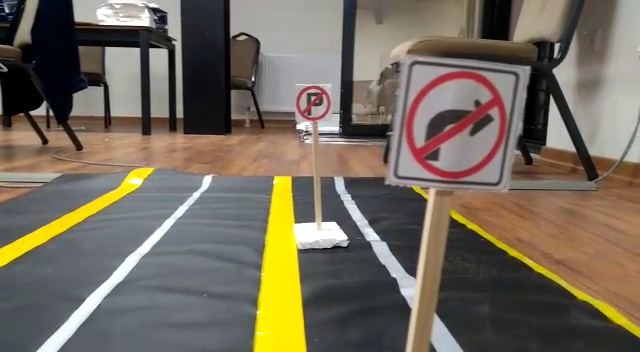park_yapilmaz: (295, 85, 332, 121)
saga_donulmez: (406, 58, 509, 185)
